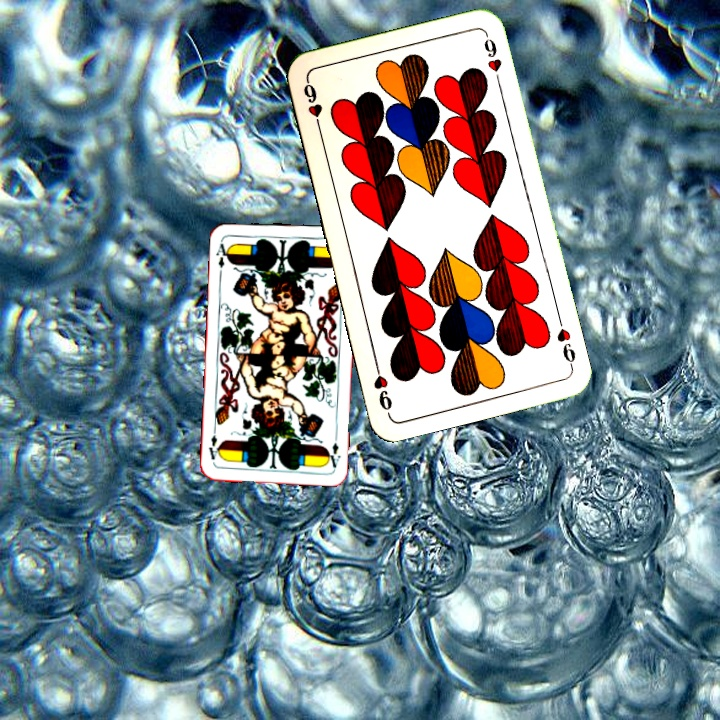EA: (324, 430, 343, 470), (212, 236, 232, 271)
H9: (299, 76, 325, 135), (552, 312, 578, 371)
